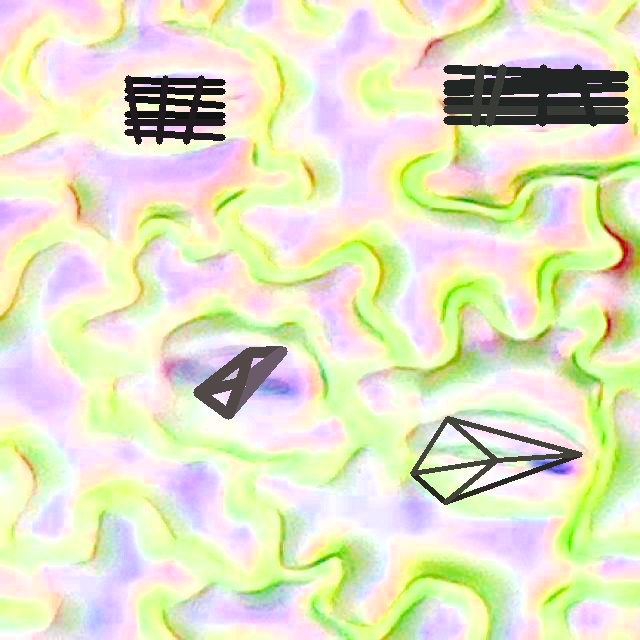close: (443, 64, 628, 126), (124, 75, 225, 144)
open: (411, 417, 581, 504), (194, 347, 286, 418)
